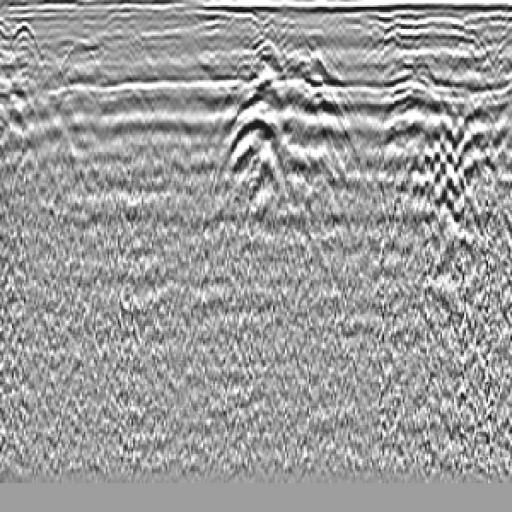metalic: (199, 24, 315, 235)
